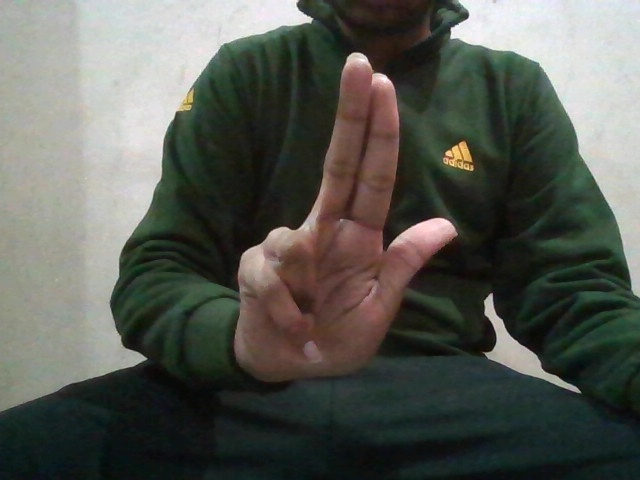K: (232, 43, 459, 384)
